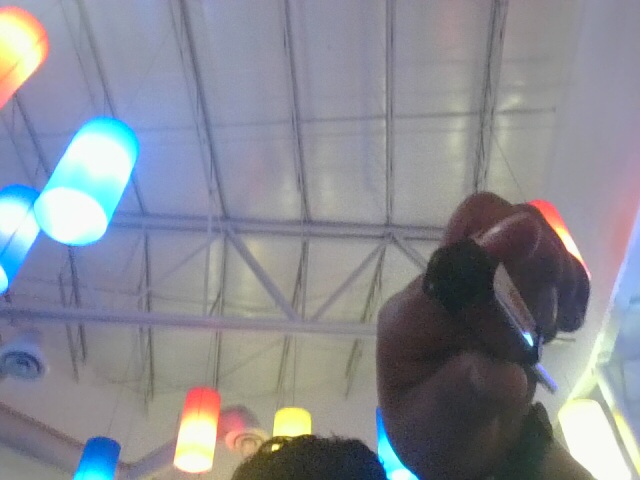destornillador: (425, 197, 606, 480)
